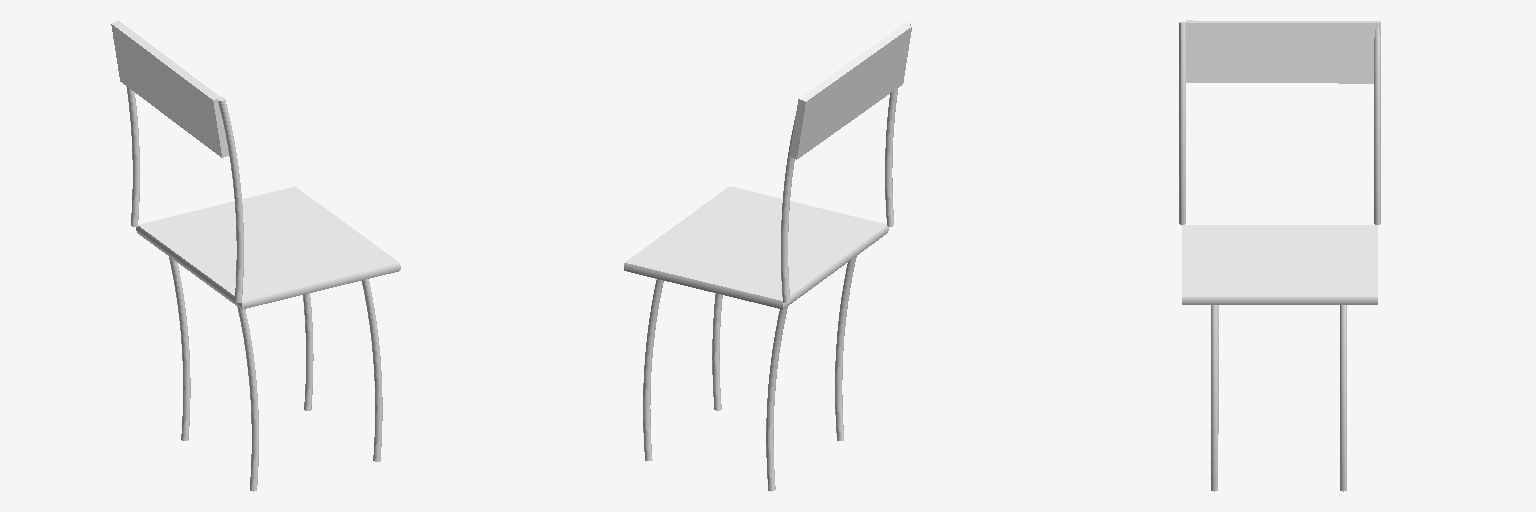
robot.urdf — chair.urdf:
<?xml version="0.0" ?>
<robot name="chair.urdf">
  <link name="chairLink">
    <contact>
      <lateral_friction value="1.0"/>
    </contact>
    <inertial>
      <origin rpy="0 0 0" xyz="0 0 0"/>
       <mass value=".0"/>
       <inertia ixx="1" ixy="0" ixz="0" iyy="1" iyz="0" izz="1"/>
    </inertial>
    <visual>
      <origin rpy="0 0 0" xyz="0 0 0.6"/>
      <geometry>
				<mesh filename="chair.dae" scale="0.005 0.005 0.005"/>
      </geometry>
       <material name="white">
        <color rgba="1 1 1 1"/>
      </material>
    </visual>
    <collision>
      <origin rpy="0 0 0" xyz="0 0 0.6"/>
      <geometry>
	 	<box size="1.5 1 0.05"/>
      </geometry>
    </collision>
  </link>
</robot>

--- Facts derived from the render (not from the file) ---
Views: 3 orthographic renders of the robot side by side, from view 1: azimuth 30°, elevation 25°; view 2: azimuth 150°, elevation 25°; view 3: azimuth 270°, elevation 25°.
Model chair.urdf with 1 links and 0 joints (none), rooted at chairLink, posed all joints at 0.
Links seen in each view (by area): view 1: chairLink; view 2: chairLink; view 3: chairLink.
Link boxes in pixels (box(x1,y1,x2,y2)): chairLink: box(111, 21, 400, 491); chairLink: box(624, 20, 911, 491); chairLink: box(1179, 20, 1380, 491).
Size in the robot's own frame: 0.4359 by 0.4392 by 0.9369 metres.
1 mesh visuals loaded from 1 distinct referenced files (1 Collada DAE).